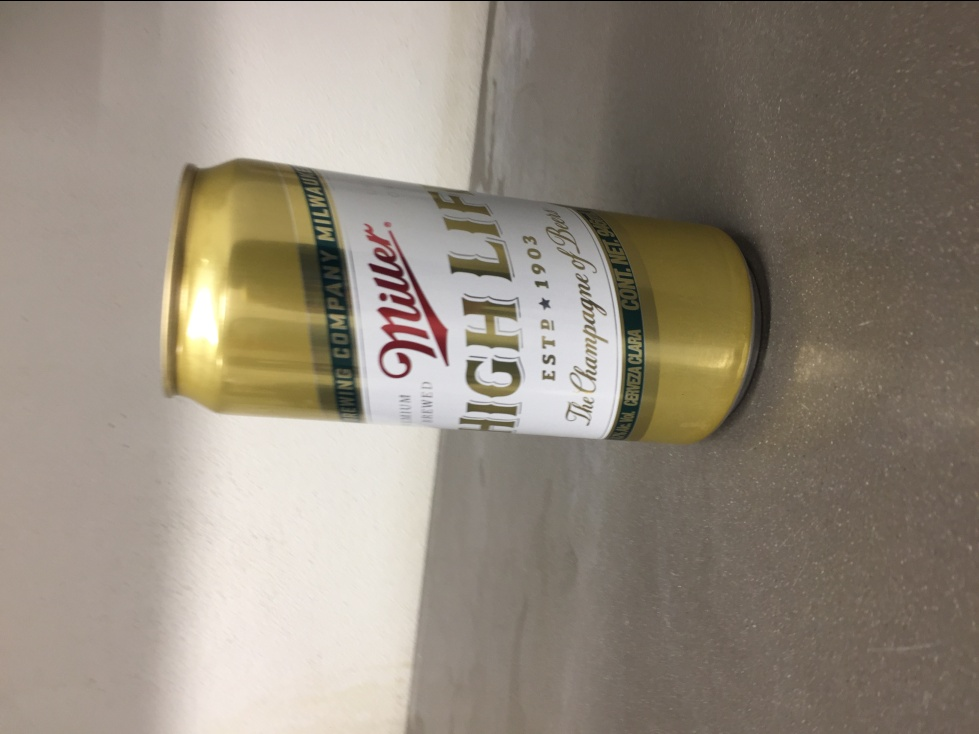miller: (154, 151, 765, 454)
